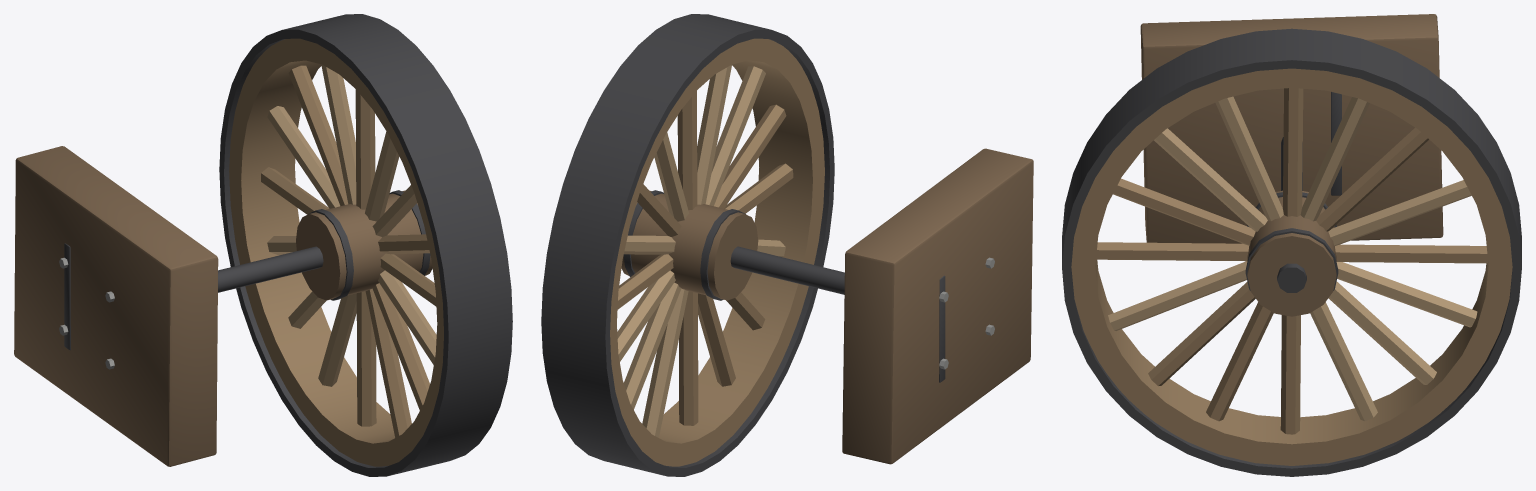
The model's file is wood_wheel_l.glb.
3 views of the same model, side by side, from view 1: azimuth 30°, elevation 25°; view 2: azimuth 150°, elevation 25°; view 3: azimuth 270°, elevation 25° (orthographic).
Visible parts, largest first — view 1: Wheel, Part; view 2: Wheel, Part; view 3: Wheel, Part.
Boxes of the visible parts, x1,y1,x2,y2 form: Wheel: [219, 14, 512, 476]; Part: [14, 146, 323, 466]; Wheel: [541, 14, 834, 476]; Part: [730, 148, 1033, 464]; Wheel: [1062, 28, 1521, 476]; Part: [1140, 14, 1443, 243].
Size of the model in its own units: 1.05 by 1.24 by 1.24.
